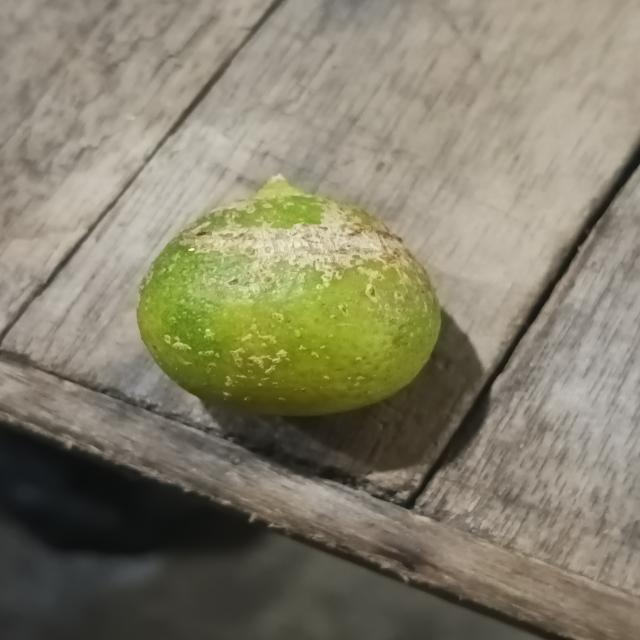thrips: (137, 186, 443, 416)
